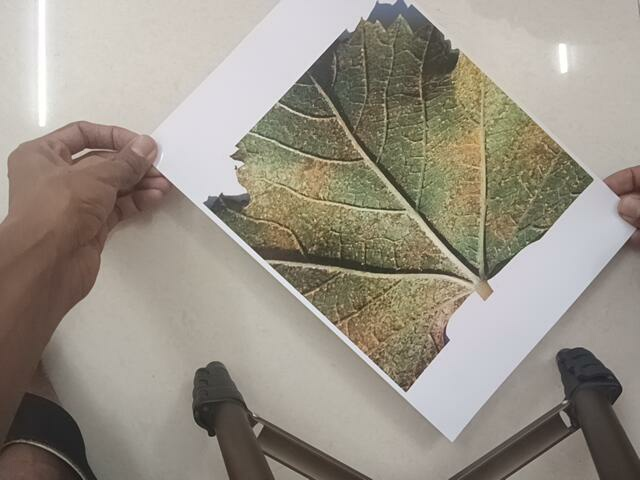Grape_Rust_Fungus: (208, 11, 592, 349)
